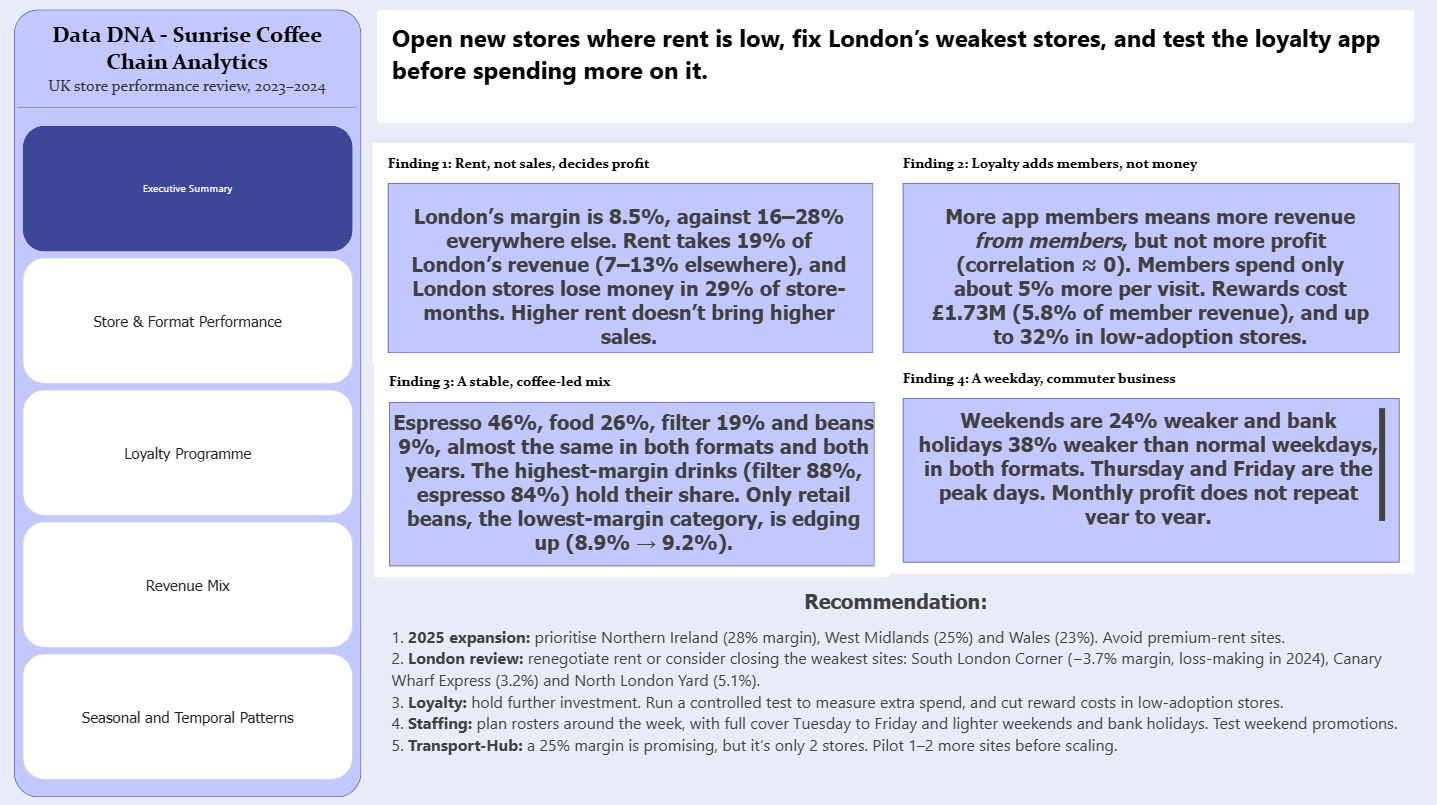

The dashboard page shown, as its layout file describes it:
{"tool":"powerbi","page":{"name":"Executive Summary","canvas":[1920,1080],"ordinal":0},"visuals":[{"type":"shape","box":[0,0,503,1080.6],"z":0},{"type":"textbox","title":"Data DNA - Sunrise Coffee Chain Analytics","box":[25,15,451.7,153.3],"z":1000},{"type":"pageNavigator","box":[11.4,155.7,480,902.9],"z":2000},{"type":"shape","title":"Finding 1: Rent, not sales, decides profit","box":[497.5,192.5,687.5,295],"z":3000},{"type":"shape","title":"Finding 2: Loyalty adds members, not money","box":[1185,192.5,702.5,295],"z":4000},{"type":"shape","title":"Finding 3: A stable, coffee-led mix","box":[499.5,485.5,687.5,287.5],"z":5000},{"type":"shape","title":"Finding 4: A weekday, commuter business","box":[1185,479.5,702.5,287.5],"z":6000},{"type":"textbox","box":[525,260,630,227.5],"z":7000},{"type":"textbox","box":[1220,260,630,227.5],"z":8000},{"type":"textbox","box":[505,535,682.5,232.5],"z":9000},{"type":"textbox","box":[1202.5,532,665,185],"z":10000},{"type":"textbox","box":[502.5,772.5,1385,307.5],"z":10001},{"type":"textbox","title":"Open new stores where rent is low, fix London’s weakest stores, and test the loyalty app before spending more on it.","box":[502.5,15,1385,152.5],"z":10002}]}

Visuals, with their boxes in screenshot pixels (x1, y1, x2, y2), scaled from the page's 1920x1080 canvas onto the 1437x805 screenshot:
shape: left=0, top=0, right=376, bottom=804
"Data DNA - Sunrise Coffee Chain Analytics" textbox: left=19, top=11, right=357, bottom=125
pageNavigator: left=9, top=116, right=368, bottom=789
"Finding 1: Rent, not sales, decides profit" shape: left=372, top=143, right=887, bottom=363
"Finding 2: Loyalty adds members, not money" shape: left=887, top=143, right=1413, bottom=363
"Finding 3: A stable, coffee-led mix" shape: left=374, top=362, right=888, bottom=576
"Finding 4: A weekday, commuter business" shape: left=887, top=357, right=1413, bottom=572
textbox: left=393, top=194, right=864, bottom=363
textbox: left=913, top=194, right=1385, bottom=363
textbox: left=378, top=399, right=889, bottom=572
textbox: left=900, top=397, right=1398, bottom=534
textbox: left=376, top=576, right=1413, bottom=804
"Open new stores where rent is low, fix London’s weakest stores, and test the loyalty app before spending more on it." textbox: left=376, top=11, right=1413, bottom=125
